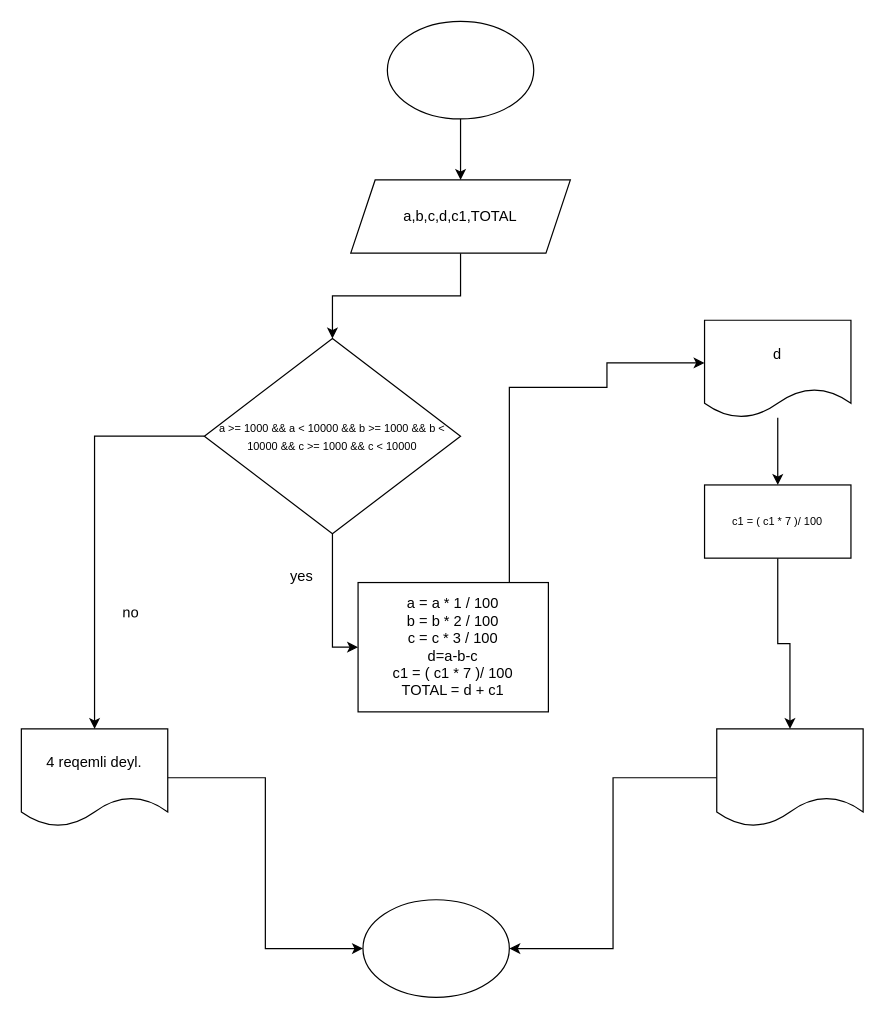
Image size: 885x1019. Some labels were removed from this diagram. Here are the shapes that lost their labels. From the top down, the centre of each, then its label:
(x=460, y=69): Start
(x=789, y=777): c1+d
(x=435, y=948): end
